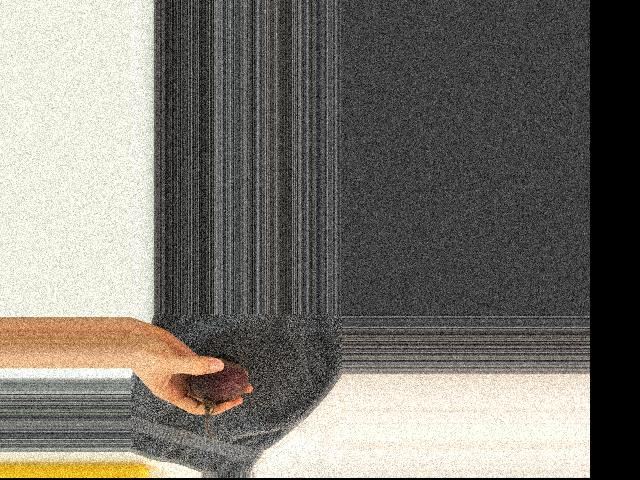beet: (190, 353, 248, 440)
